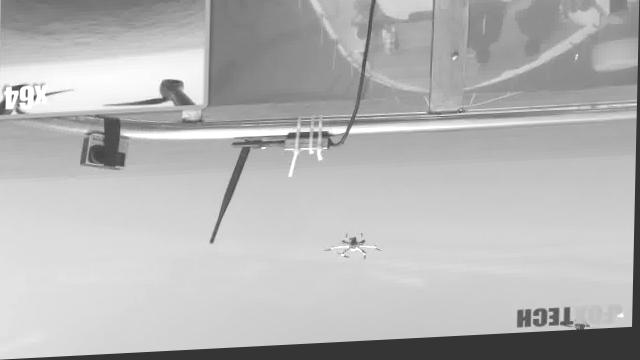drone: (324, 229, 389, 270)
